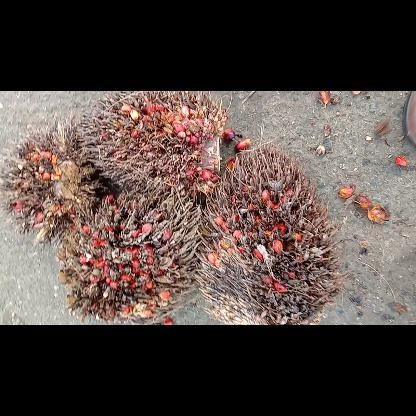Terlalu masak: (191, 140, 345, 324), (52, 186, 206, 322), (72, 91, 228, 203), (0, 117, 112, 247)
